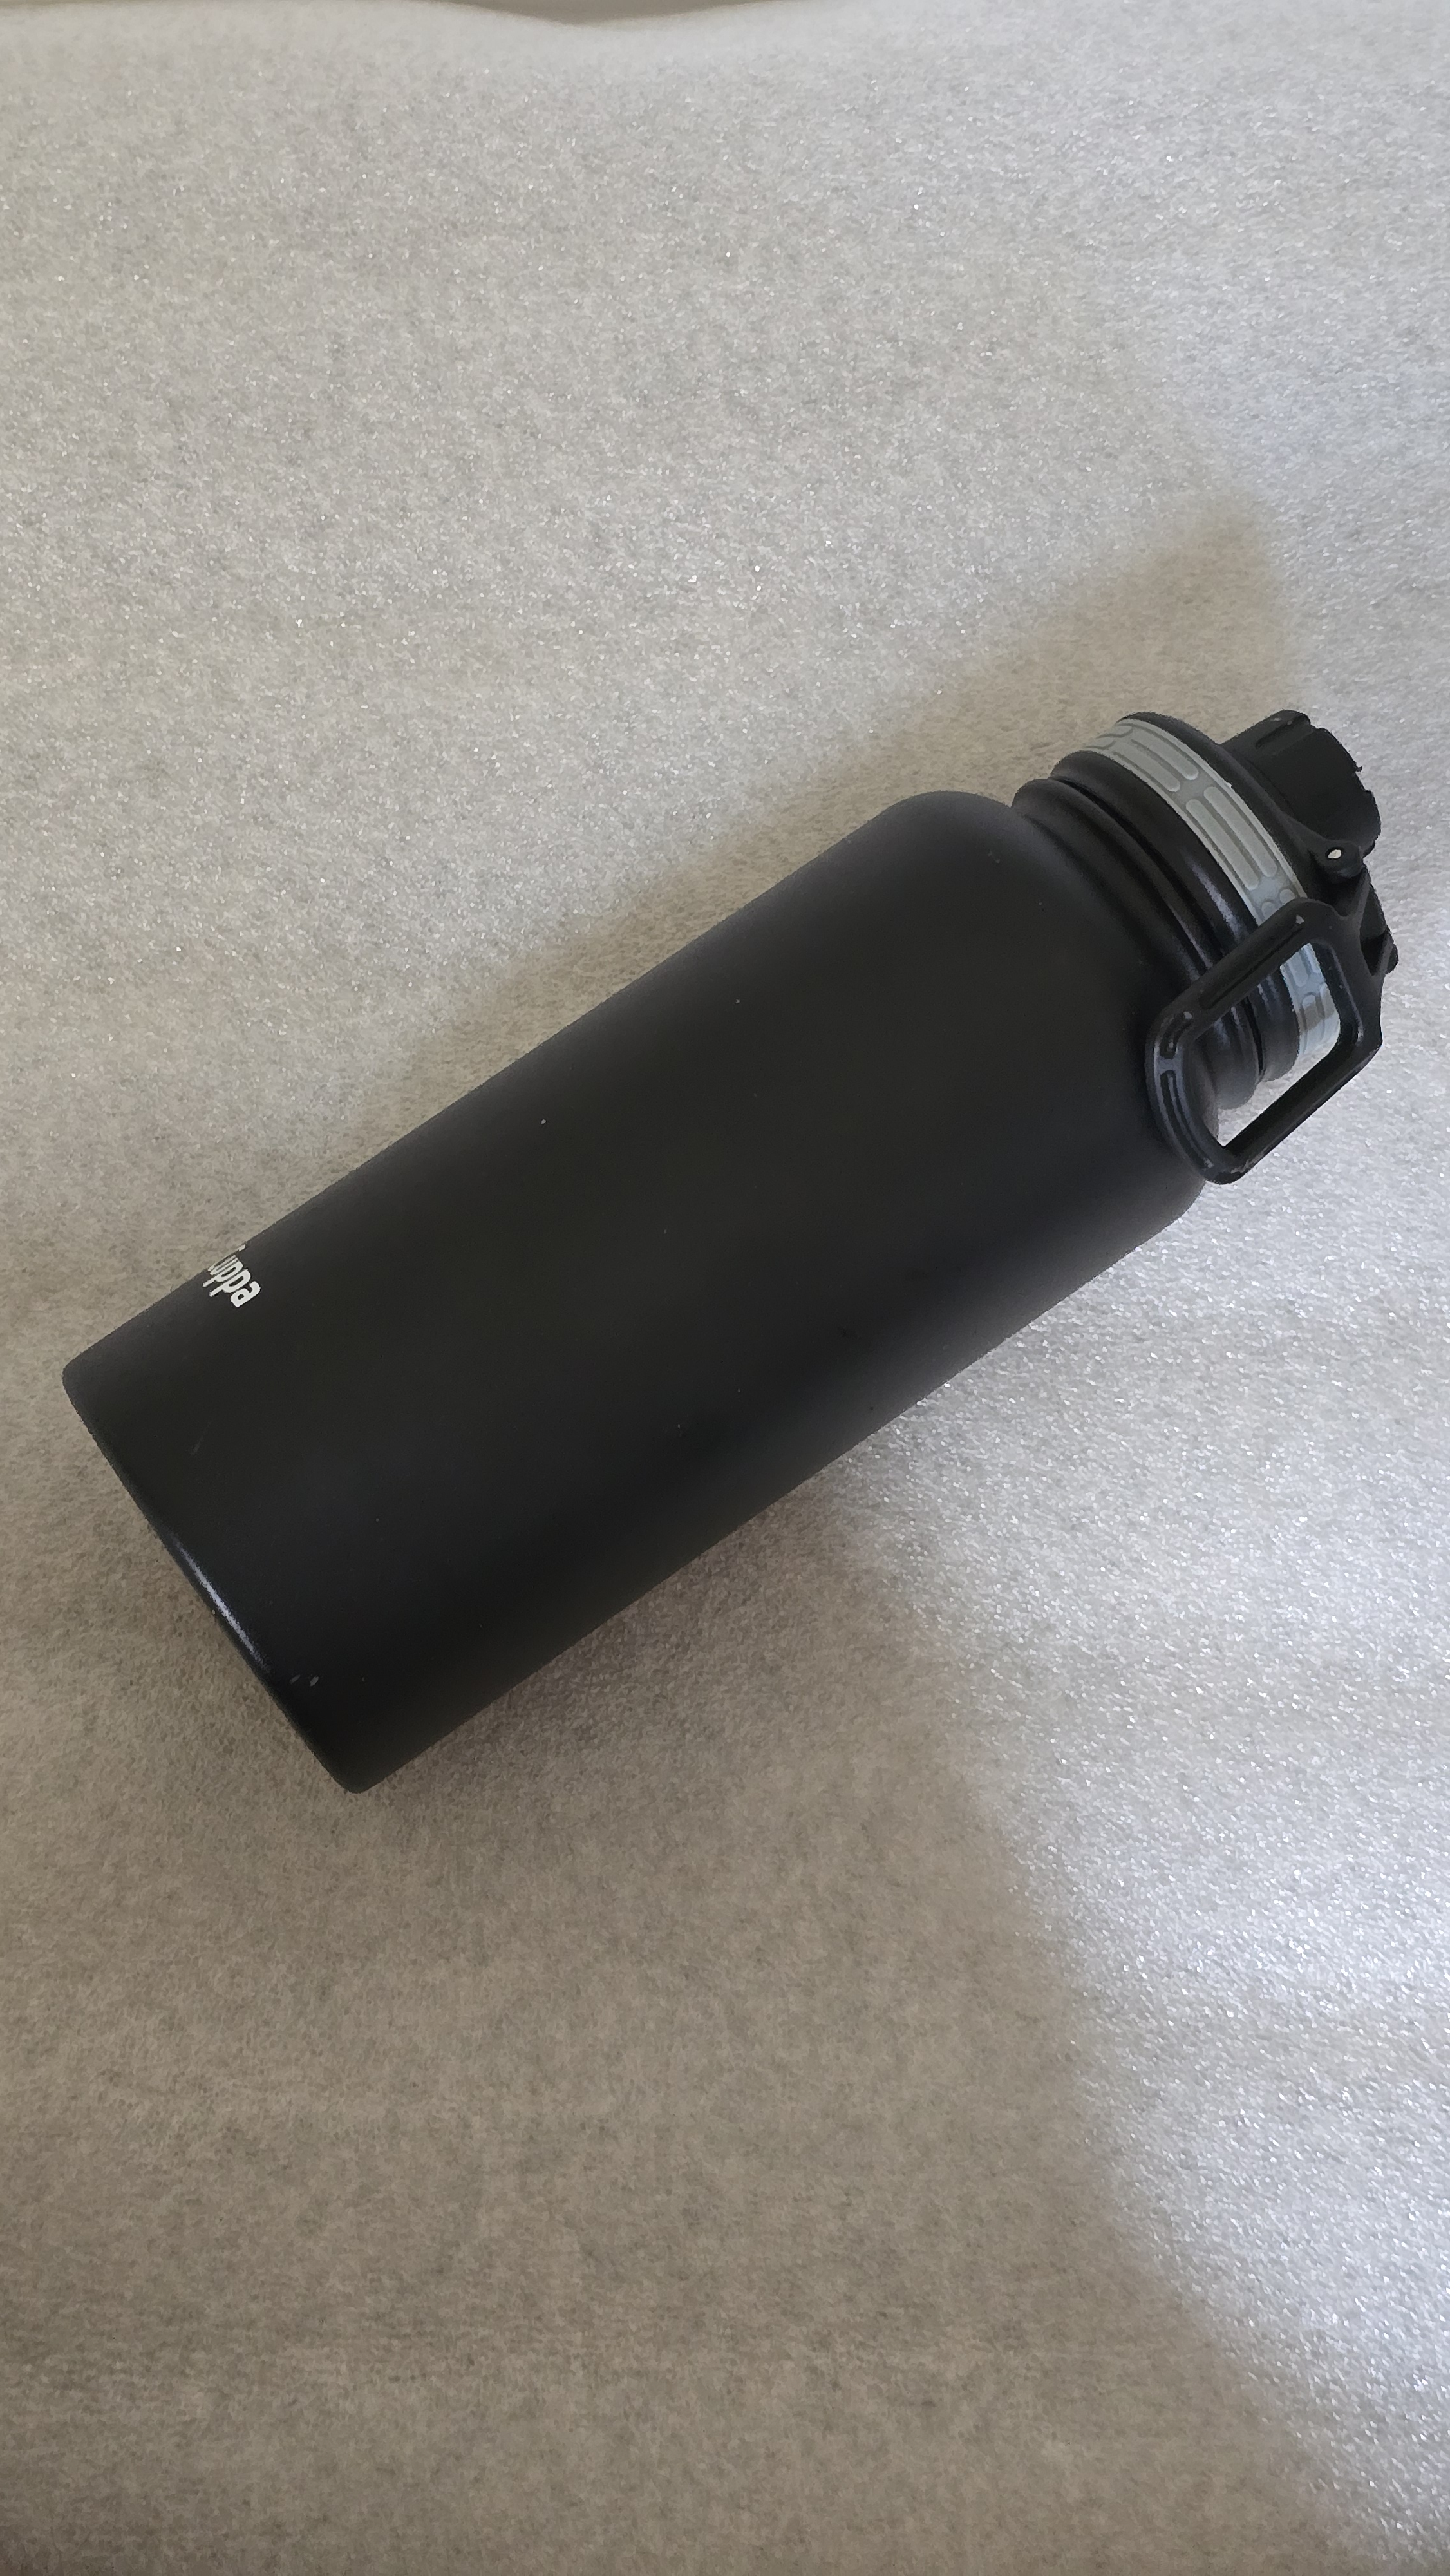bottle: (58, 614, 1439, 1874)
